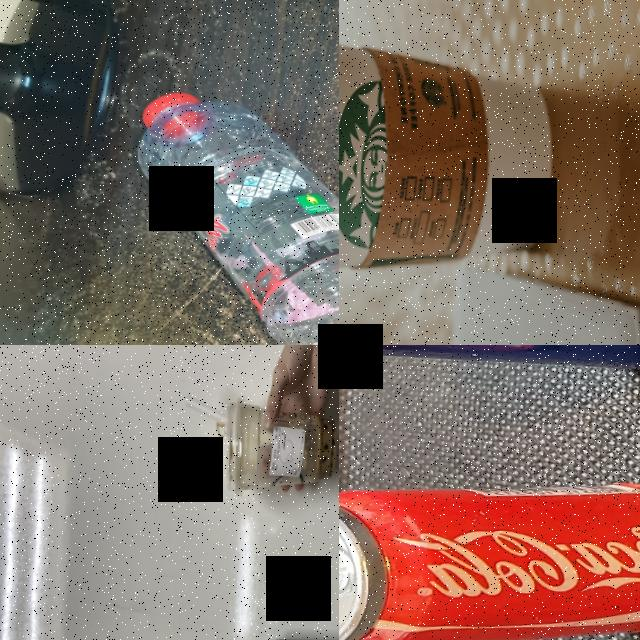bottle: (115, 77, 339, 345)
can: (339, 467, 640, 640)
cup: (339, 4, 562, 303), (224, 399, 339, 498)
